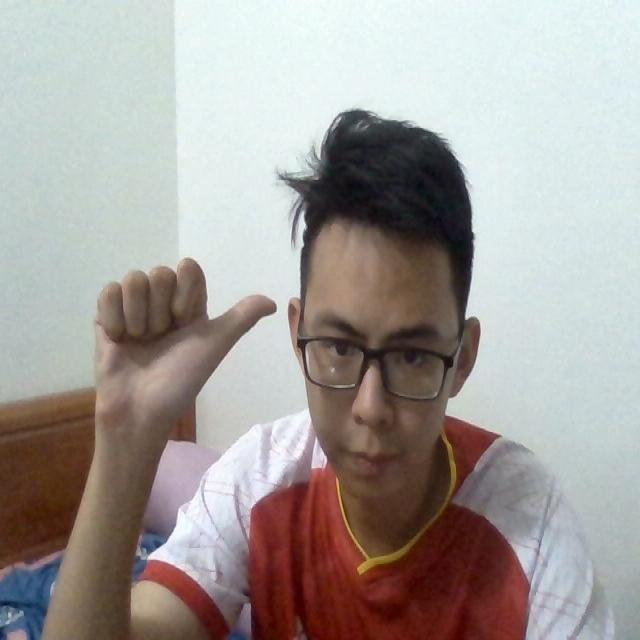A: (83, 259, 283, 422)
